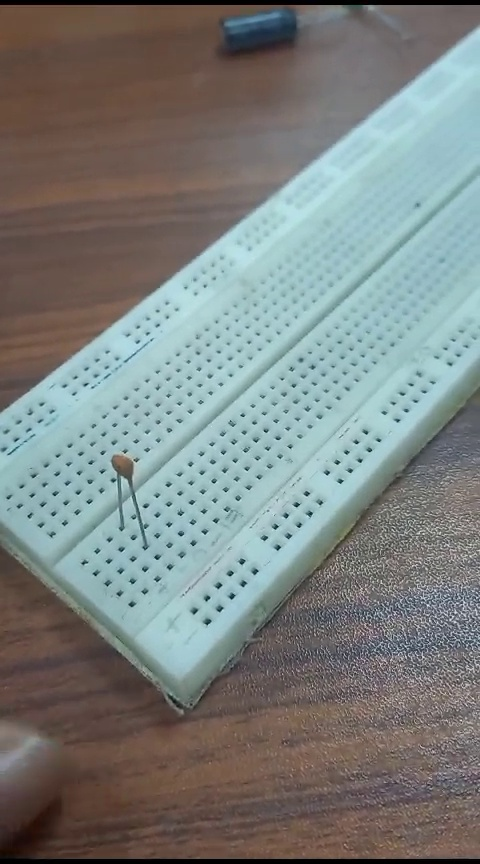ceramic capacitor: (96, 447, 156, 553)
